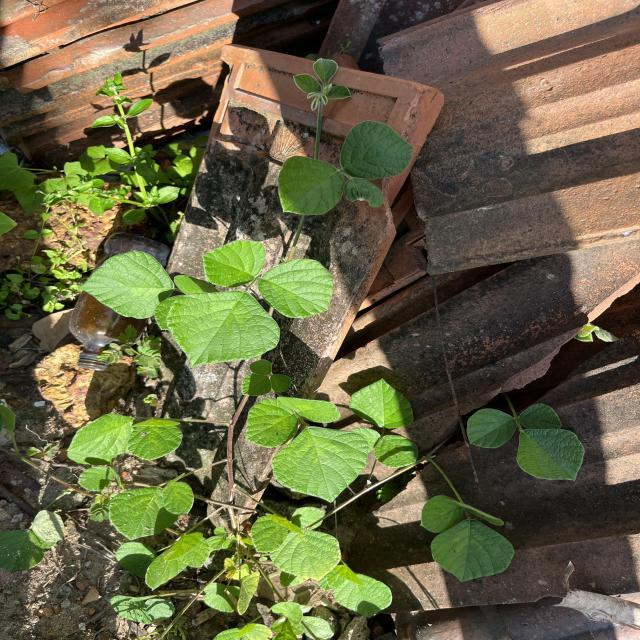Pseudarthria viscida: (165, 239, 336, 369), (276, 119, 416, 218), (243, 396, 371, 504), (464, 402, 586, 482), (418, 494, 518, 586)
